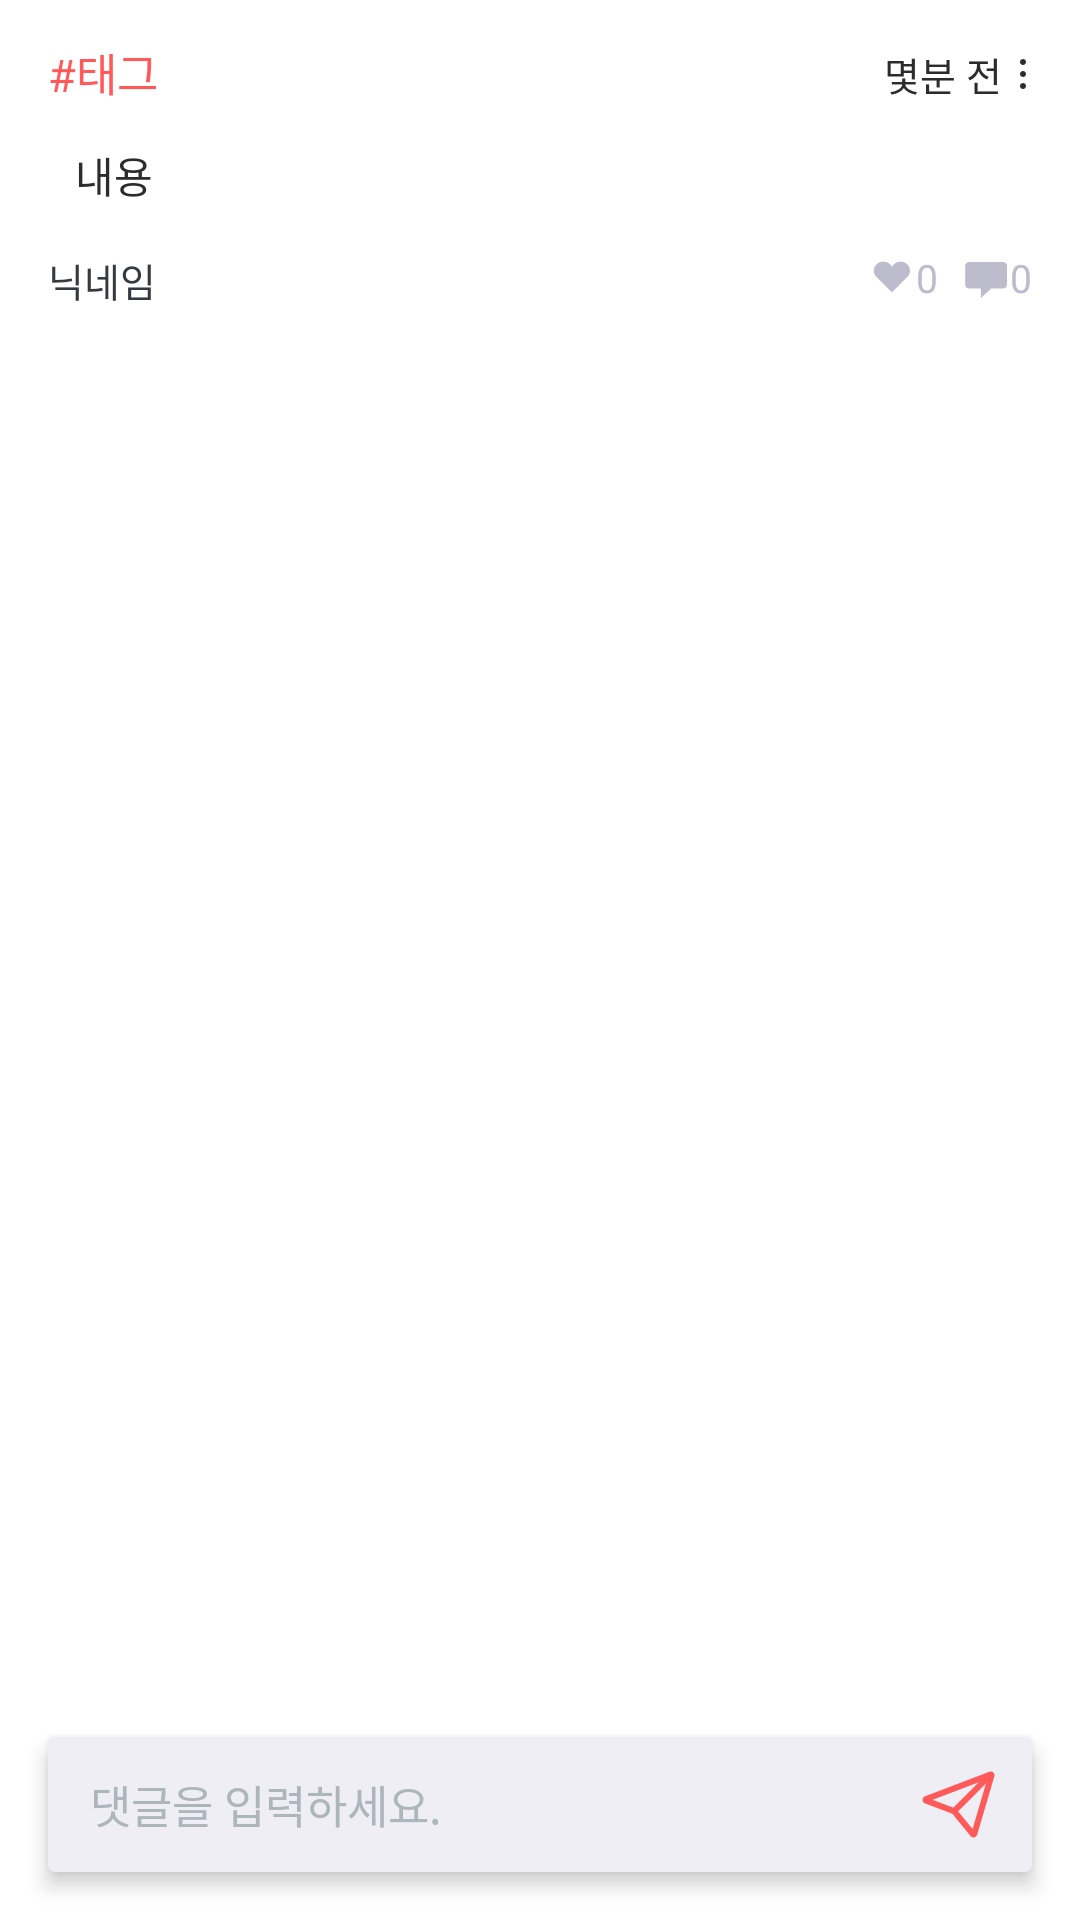

Point at icon controls on the screen. Image size 1080 x 1920, points as (x,y).
page comment: (986,280)
page comment send: (958,1804)
page dot: (1023,74)
